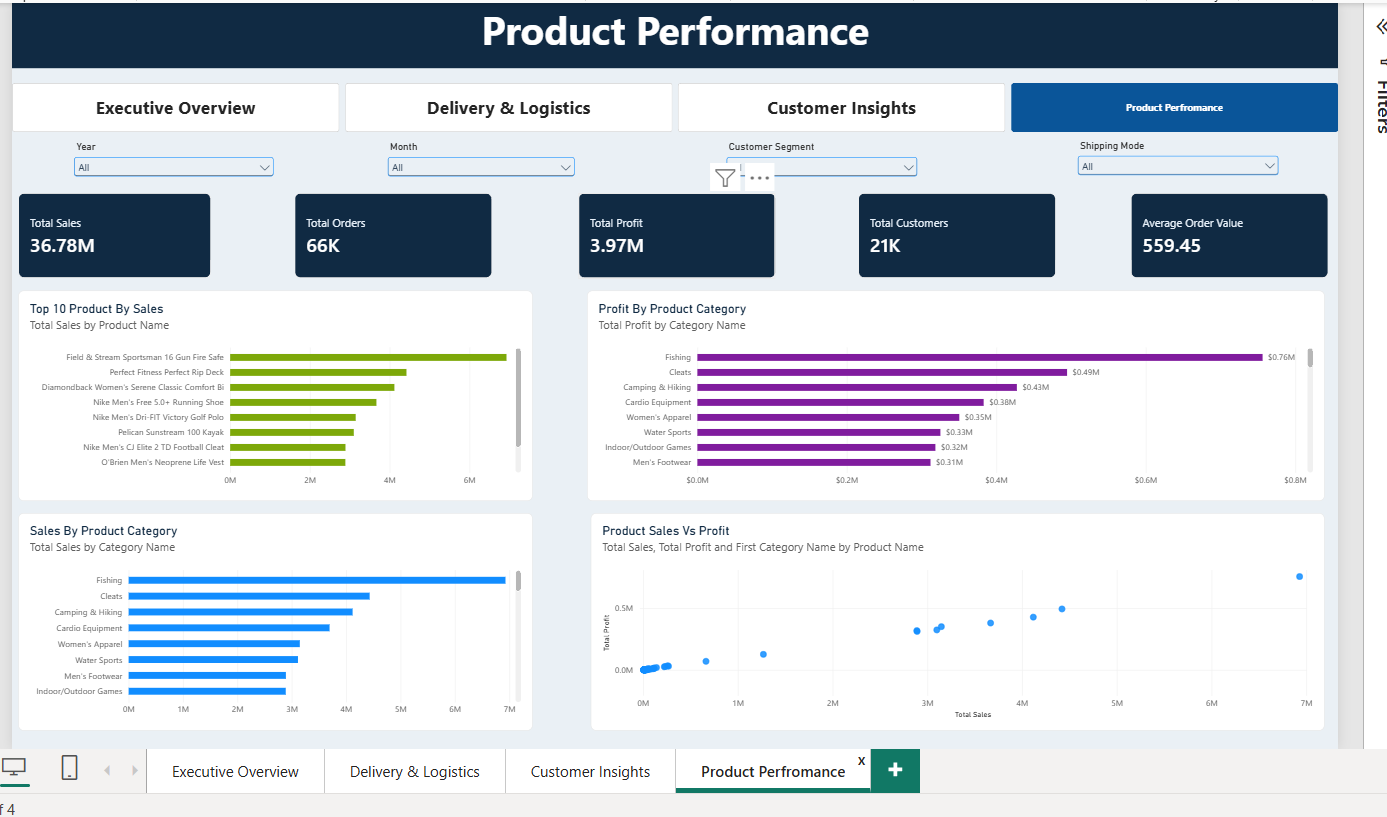

This screenshot's page, from the dashboard's own definition file:
{"tool":"powerbi","page":{"name":"Product Perfromance","canvas":[1920,1080],"ordinal":3},"visuals":[{"type":"slicer","fields":{"Values":["Dim_Date.Month"]},"box":[539.3,199.7,279.9,72],"z":0},{"type":"slicer","fields":{"Values":["Dim_Date.Year"]},"box":[84.4,199.7,298.5,59.7],"z":1000},{"type":"slicer","fields":{"Values":["Dim_customers.Customer Segment"]},"box":[1029.2,199.7,286.1,76.2],"z":2000},{"type":"slicer","fields":{"Values":["Fact_ecom.Shipping Mode"]},"box":[1537.6,197.6,300.5,63.8],"z":3000},{"type":"cardVisual","fields":{"Data":["Fact_ecom.Average Order Value"]},"box":[1619.9,275.8,286.1,123.5],"z":4000},{"type":"cardVisual","fields":{"Data":["Fact_ecom.Total Customers"]},"box":[1224.7,275.8,286.1,123.5],"z":5000},{"type":"cardVisual","fields":{"Data":["Fact_ecom.Total Orders"]},"box":[409.6,275.8,286.1,123.5],"z":6000},{"type":"cardVisual","fields":{"Data":["Fact_ecom.Total Sales"]},"box":[8.2,275.8,279.9,123.5],"z":7000},{"type":"cardVisual","fields":{"Data":["Fact_ecom.Total Profit"]},"box":[819.2,275.8,286.1,123.5],"z":8000},{"type":"clusteredBarChart","title":"Sales By Product Category","fields":{"Category":["Dim_Product (1).Category Name"],"Y":["Fact_ecom.Total Sales"]},"box":[8.2,738.9,745.1,314.9],"z":9000},{"type":"clusteredBarChart","title":"Top 10 Product By Sales","fields":{"Category":["Dim_Product (1).Product Name"],"Y":["Fact_ecom.Total Sales"]},"box":[8.2,415.8,745.1,304.6],"z":10000},{"type":"clusteredBarChart","title":"Profit By Product Category ","fields":{"Category":["Dim_Product (1).Category Name"],"Y":["Fact_ecom.Total Profit"]},"box":[832,416,1068.3,304.6],"z":11000},{"type":"scatterChart","title":"Product Sales Vs Profit ","fields":{"Category":["Dim_Product (1).Product Name"],"X":["Fact_ecom.Total Sales"],"Y":["Fact_ecom.Total Profit"]},"box":[837.7,738.9,1062.1,314.9],"z":12000},{"type":"pageNavigator","box":[0,115.3,1920.4,71],"z":13000},{"type":"textbox","box":[0,0,1920.4,94.7],"z":14000}]}

Visuals, with their boxes on the page's 1920x1080 design canvas (x1, y1, x2, y2). These are canvas units, not pixel positions in the 1387x817 screenshot, which may show the page scaled, cropped or inside an application window:
slicer - Dim_Date.Month: left=539, top=200, right=819, bottom=272
slicer - Dim_Date.Year: left=84, top=200, right=383, bottom=259
slicer - Dim_customers.Customer Segment: left=1029, top=200, right=1315, bottom=276
slicer - Fact_ecom.Shipping Mode: left=1538, top=198, right=1838, bottom=261
cardVisual - Fact_ecom.Average Order Value: left=1620, top=276, right=1906, bottom=399
cardVisual - Fact_ecom.Total Customers: left=1225, top=276, right=1511, bottom=399
cardVisual - Fact_ecom.Total Orders: left=410, top=276, right=696, bottom=399
cardVisual - Fact_ecom.Total Sales: left=8, top=276, right=288, bottom=399
cardVisual - Fact_ecom.Total Profit: left=819, top=276, right=1105, bottom=399
"Sales By Product Category" clusteredBarChart: left=8, top=739, right=753, bottom=1054
"Top 10 Product By Sales" clusteredBarChart: left=8, top=416, right=753, bottom=720
"Profit By Product Category " clusteredBarChart: left=832, top=416, right=1900, bottom=721
"Product Sales Vs Profit " scatterChart: left=838, top=739, right=1900, bottom=1054
pageNavigator: left=0, top=115, right=1920, bottom=186
textbox: left=0, top=0, right=1920, bottom=95
